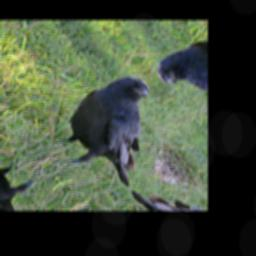Crow: (29, 69, 200, 203)
